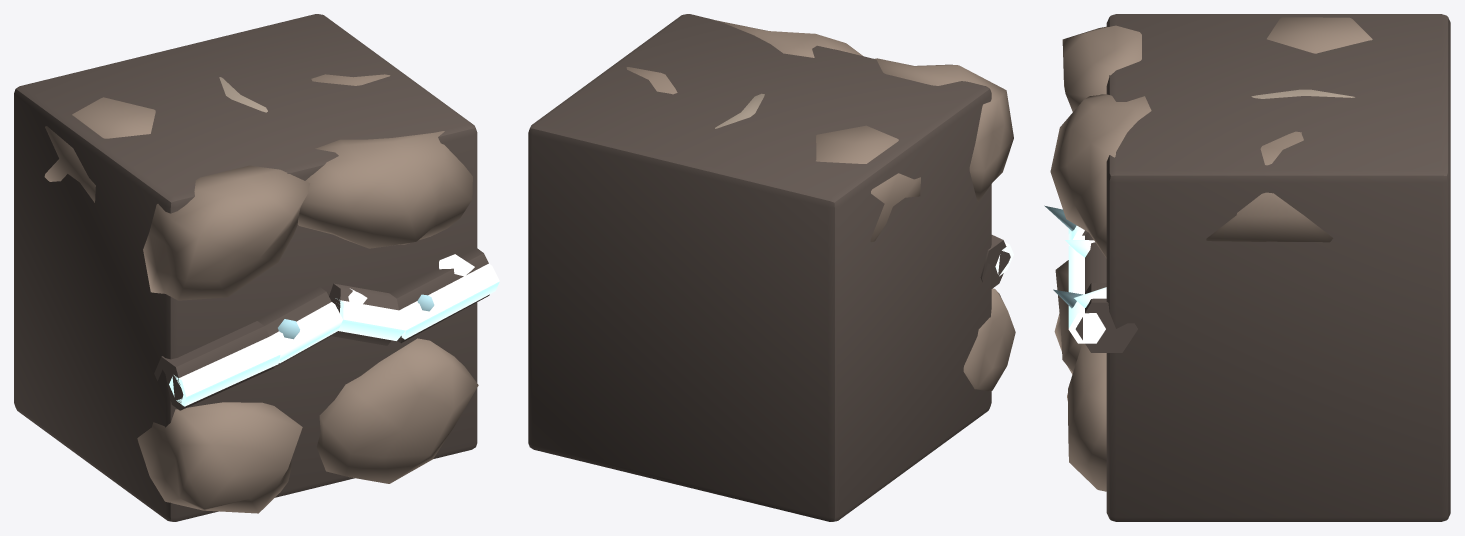
The model's file is tile_rock_c.glb.
3 views of the same model, side by side, from view 1: azimuth 30°, elevation 25°; view 2: azimuth 150°, elevation 25°; view 3: azimuth 270°, elevation 25° (orthographic). The views are drawn at different scales.
Parts seen in each view (by area): view 1: tile_rock_c; view 2: tile_rock_c; view 3: tile_rock_c.
Boxes of the visible parts, box(x1,y1,x2,y2) form: tile_rock_c: box(14, 14, 499, 521); tile_rock_c: box(528, 14, 1015, 521); tile_rock_c: box(1044, 14, 1450, 521).
Bounding box in the file's own units: 0.5 × 0.5 × 0.5201.
